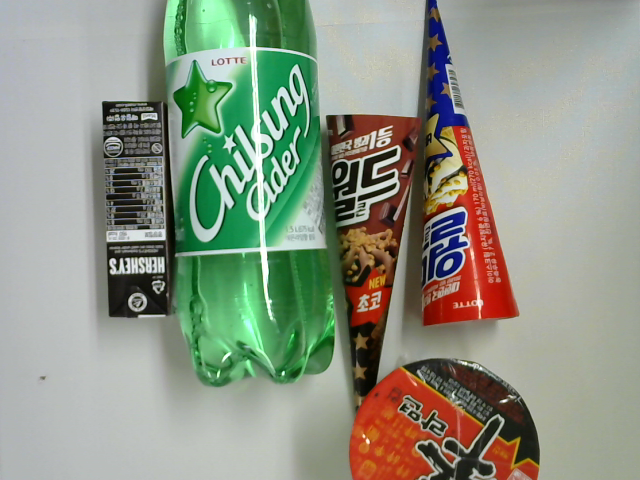Chilseong_Cider_1.5L: (160, 1, 338, 387)
Choco_E_Mong: (98, 96, 176, 327)
Sinramen_small: (341, 358, 541, 480)
World_Cone_Banila: (418, 1, 519, 328)
World_Cone_Choco: (327, 114, 423, 422)
